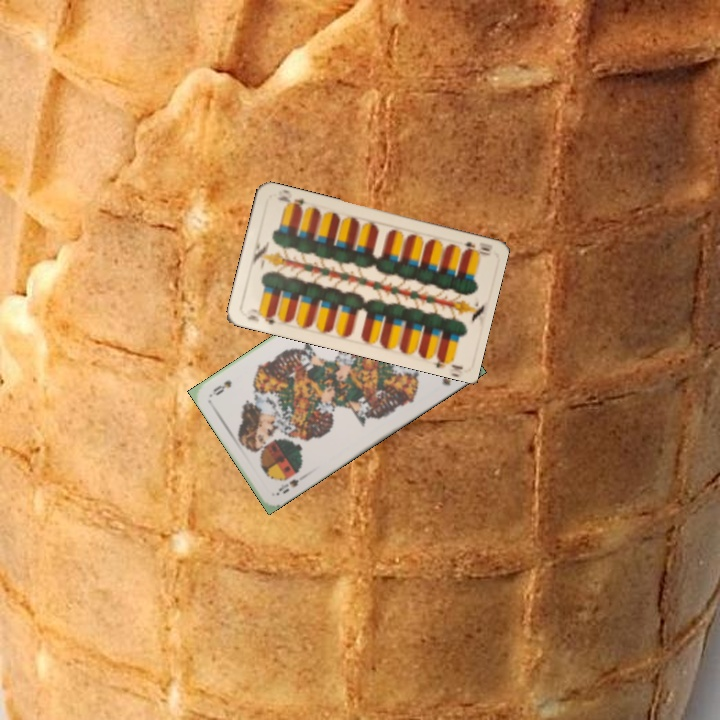E10: (241, 304, 278, 327), (461, 238, 492, 258)
SO: (274, 475, 301, 496)
